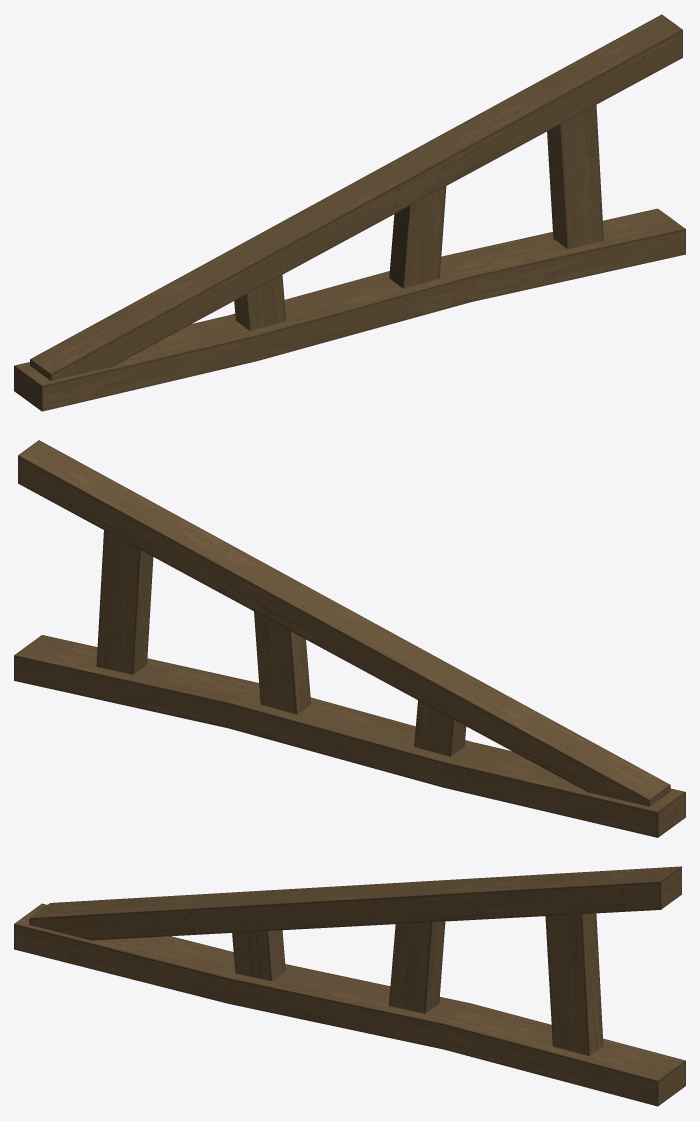
The model's file is SM_building_part_05.glb.
The picture shows the model from 3 angles, top to bottom: view 1: azimuth 30°, elevation 25°; view 2: azimuth 150°, elevation 25°; view 3: azimuth 330°, elevation 25°; orthographic projection.
Parts seen in each view (by area): view 1: SM_building_part_05; view 2: SM_building_part_05; view 3: SM_building_part_05.
Boxes of the visible parts, <box> form: SM_building_part_05: <box>14,14,685,411</box>; SM_building_part_05: <box>14,440,685,837</box>; SM_building_part_05: <box>14,866,685,1106</box>.
Size of the model in its own units: 5.3 by 1.77 by 0.4.
1 material, 1 textured.
